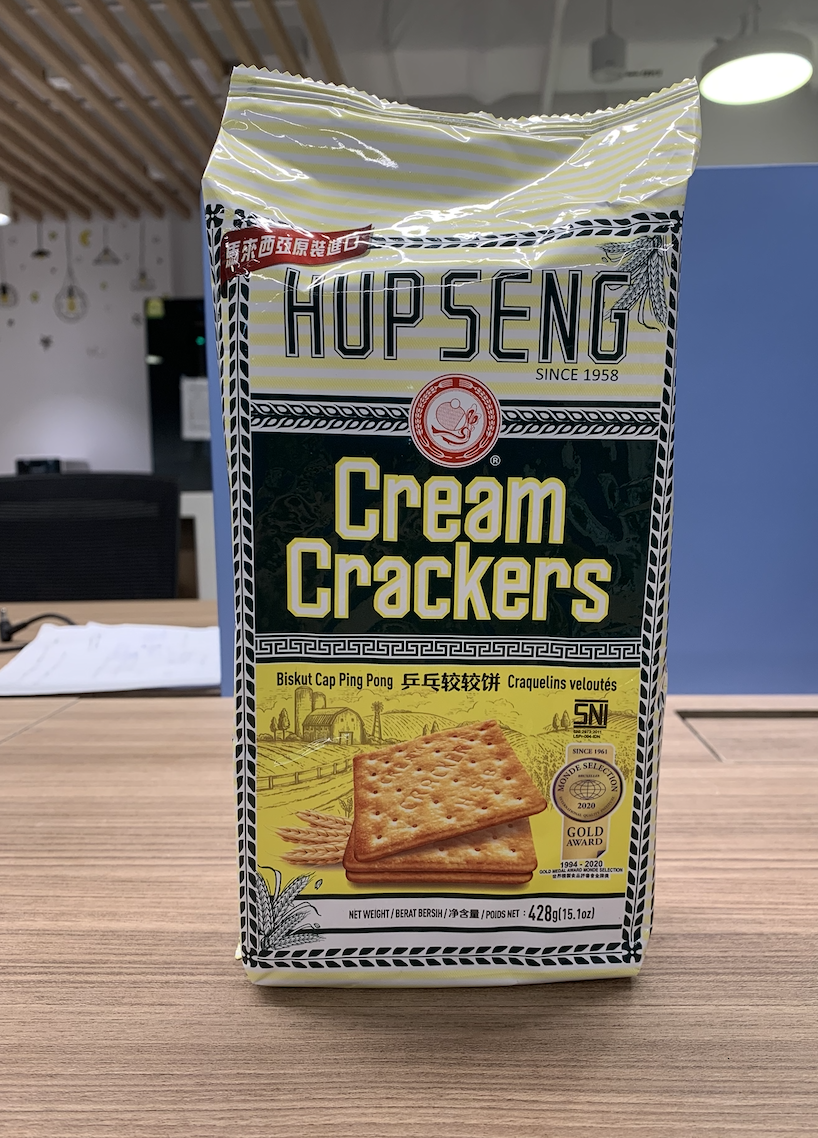crackers_400g-499g: (234, 195, 654, 967)
